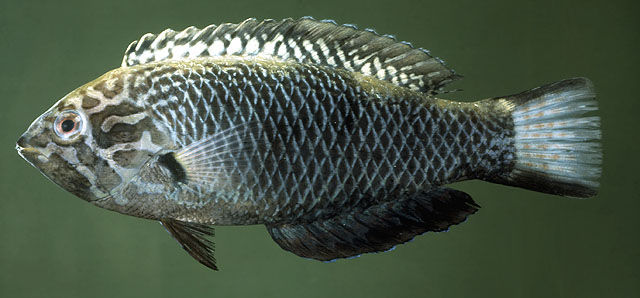fish: (15, 14, 605, 271)
